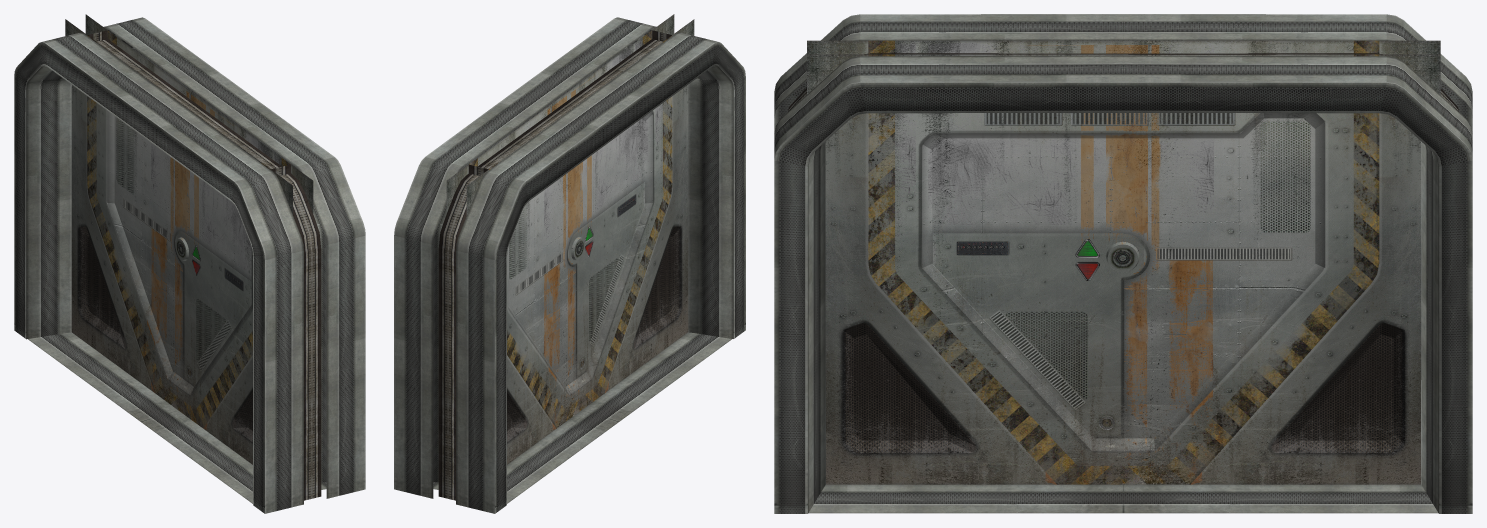
The model's file is Door_Big5mts_3panels.fbx.
The picture shows the model from 3 angles, left to right: view 1: azimuth 30°, elevation 25°; view 2: azimuth 150°, elevation 25°; view 3: azimuth 270°, elevation 25°; orthographic projection. The views are drawn at different scales.
Parts seen in each view (by area): view 1: Door_frame, Door_panel1, Door_Panel2, Door_Panel3; view 2: Door_frame, Door_panel1, Door_Panel3, Door_Panel2; view 3: Door_panel1, Door_frame, Door_Panel3, Door_Panel2.
Part boxes in pixels (x1,y1,x2,y2): Door_frame: (14,17,365,513); Door_panel1: (87,30,290,427); Door_Panel2: (65,14,155,393); Door_Panel3: (203,164,313,464); Door_frame: (394,17,745,513); Door_panel1: (469,30,672,427); Door_Panel3: (604,14,694,393); Door_Panel2: (446,164,556,464); Door_panel1: (868,40,1379,484); Door_frame: (774,14,1472,513); Door_Panel3: (807,40,1057,484); Door_Panel2: (1190,40,1440,484).
Bounding box in the file's own units: 102 × 301 × 441.
1 material, 1 textured.
